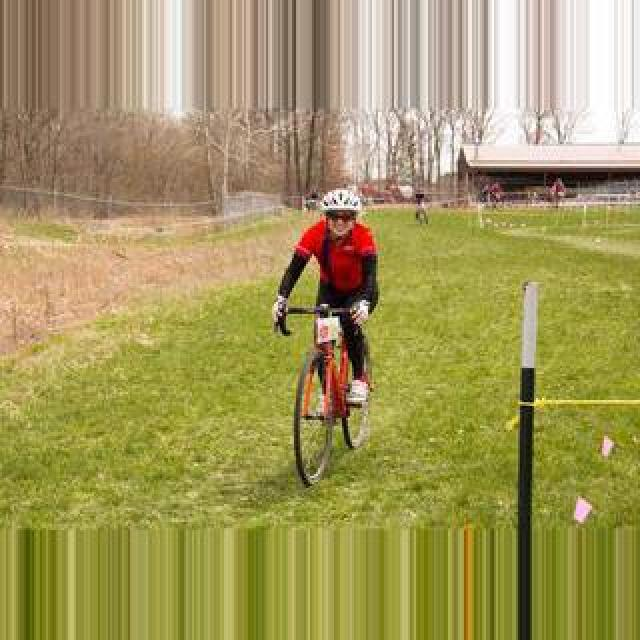MC-Bike: (272, 190, 380, 422)
Person: (286, 306, 374, 486)
